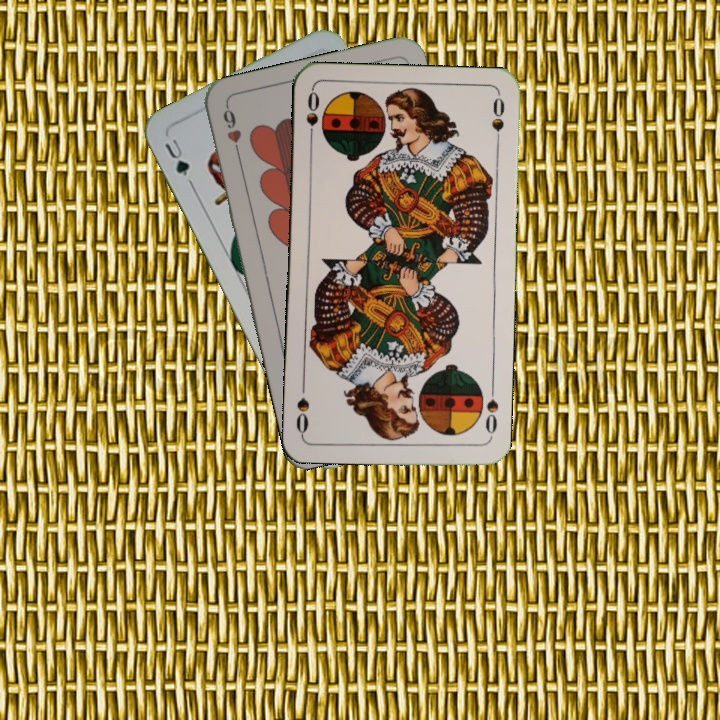GU: (160, 134, 192, 179)
H9: (219, 102, 244, 160)
SO: (302, 87, 322, 146), (481, 383, 501, 442)
